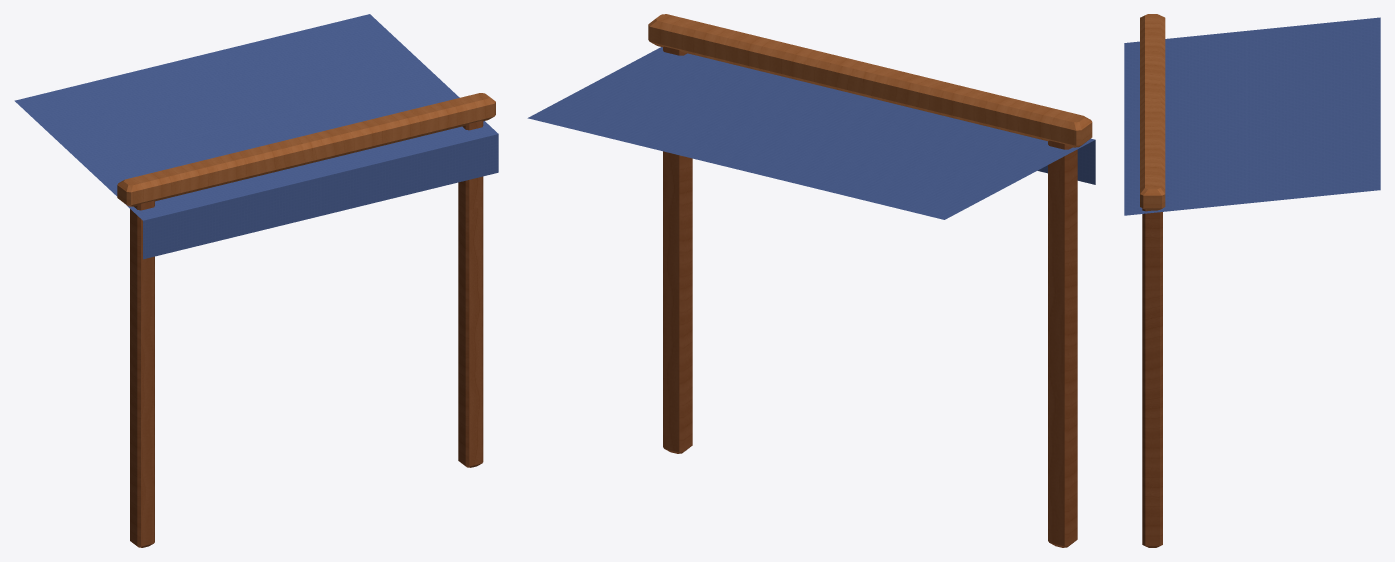
File: Prop_BlueAwning.obj
The picture shows the model from 3 angles, left to right: view 1: azimuth 30°, elevation 25°; view 2: azimuth 150°, elevation 25°; view 3: azimuth 270°, elevation 25°; orthographic projection. The views are drawn at different scales.
Visible parts, largest first — view 1: Canvas, Oak_posts, Valance, Top_beam; view 2: Canvas, Oak_posts, Top_beam, Valance; view 3: Canvas, Oak_posts, Top_beam.
Part boxes in pixels (x1,y1,x2,y2): Canvas: (14,14,498,220); Oak_posts: (130,120,483,547); Valance: (143,134,498,259); Top_beam: (117,93,495,206); Canvas: (527,47,1094,219); Oak_posts: (663,46,1077,547); Top_beam: (648,14,1092,147); Valance: (1037,140,1095,184); Canvas: (1124,17,1380,215); Oak_posts: (1142,208,1162,547); Top_beam: (1140,14,1165,210).
Bounding box in the file's own units: 2.7 × 2.56 × 1.63.
Materials: 3 (3 with a texture image).
